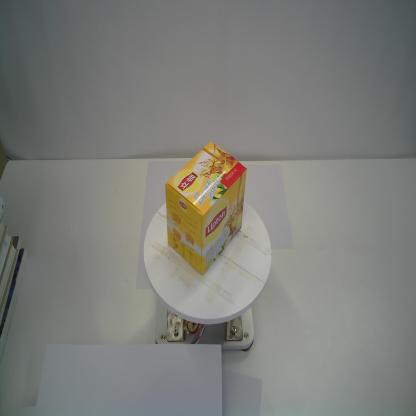Instant Drink: (163, 141, 248, 275)
